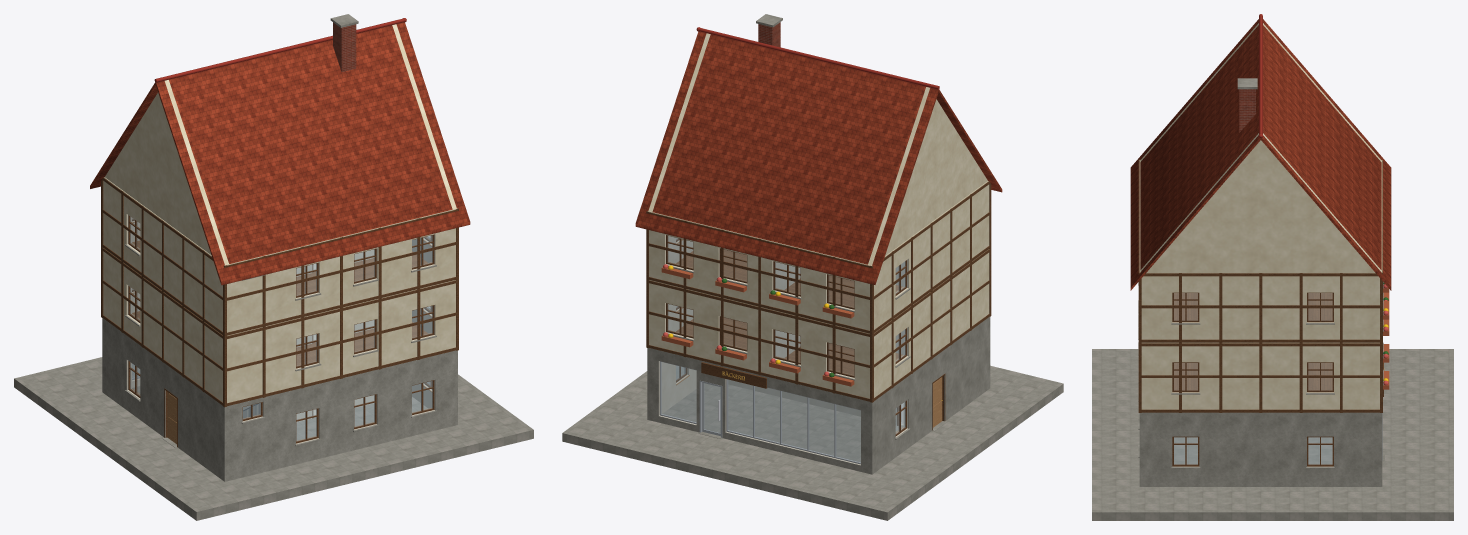
Rendered from b_german_fachwerk.gltf.
3 renders of one model, left to right at view 1: azimuth 30°, elevation 25°; view 2: azimuth 150°, elevation 25°; view 3: azimuth 270°, elevation 25°, orthographic. The views are drawn at different scales.
Visible parts, largest first — view 1: S_german_fachwerk; view 2: S_german_fachwerk, D_german_fachwerk_F1_S2_Door0; view 3: S_german_fachwerk.
Boxes of the visible parts, x1=… form: S_german_fachwerk: x1=14, y1=14, x2=533, y2=520; S_german_fachwerk: x1=562, y1=14, x2=1063, y2=520; D_german_fachwerk_F1_S2_Door0: x1=702, y1=382, x2=720, y2=436; S_german_fachwerk: x1=1092, y1=14, x2=1453, y2=520.
Size of the model in its own units: 16 by 17.6 by 15.
Materials: 24 (13 with a texture image).
